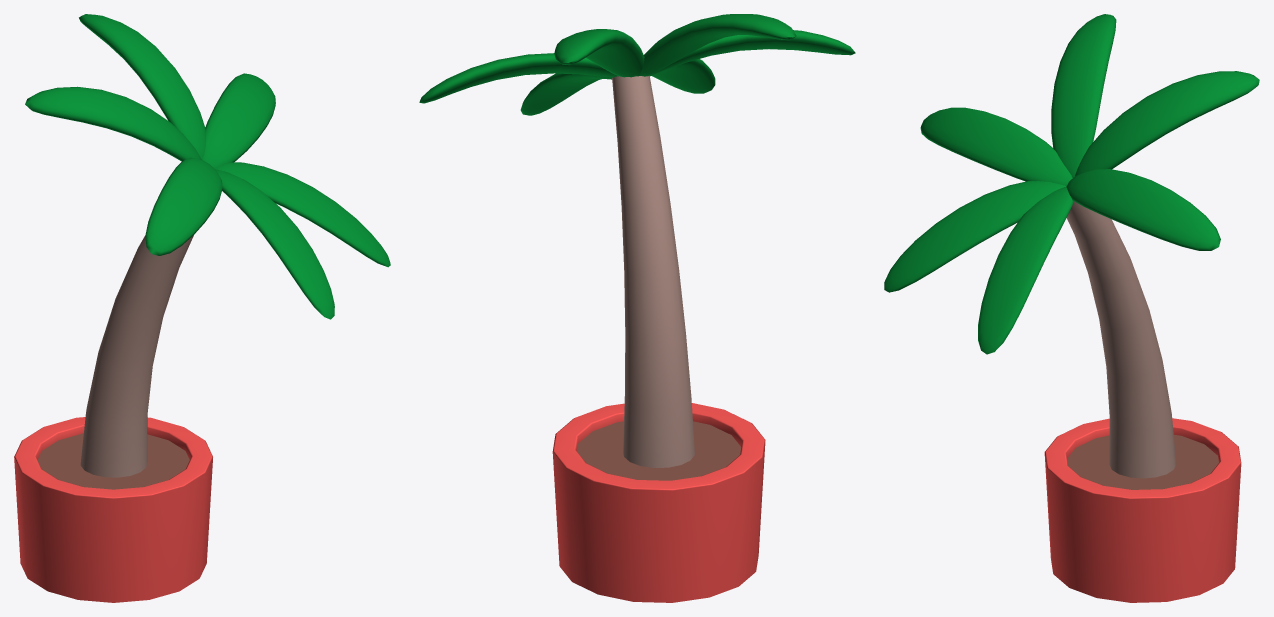
The model's file is Town_17_Tree_2.glb.
The picture shows the model from 3 angles, left to right: view 1: azimuth 30°, elevation 25°; view 2: azimuth 150°, elevation 25°; view 3: azimuth 270°, elevation 25°; orthographic projection. The views are drawn at different scales.
Parts seen in each view (by area): view 1: Town_17_Tree_2; view 2: Town_17_Tree_2; view 3: Town_17_Tree_2.
Part boxes in pixels (bbox=[...]): Town_17_Tree_2: bbox=[14, 14, 390, 602]; Town_17_Tree_2: bbox=[419, 14, 855, 602]; Town_17_Tree_2: bbox=[884, 14, 1259, 602].
Bounding box in the file's own units: 2.14 × 3.38 × 2.28.
1 material, 1 textured.
